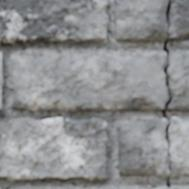brick: (0, 118, 106, 180), (0, 0, 108, 44), (0, 53, 1, 110)
broken_brick: (10, 51, 166, 112), (116, 117, 168, 177), (114, 0, 167, 43), (169, 50, 188, 112), (170, 116, 188, 177), (168, 0, 188, 42), (172, 185, 187, 188), (150, 186, 165, 188)
crack: (162, 0, 186, 188), (12, 76, 14, 98)
